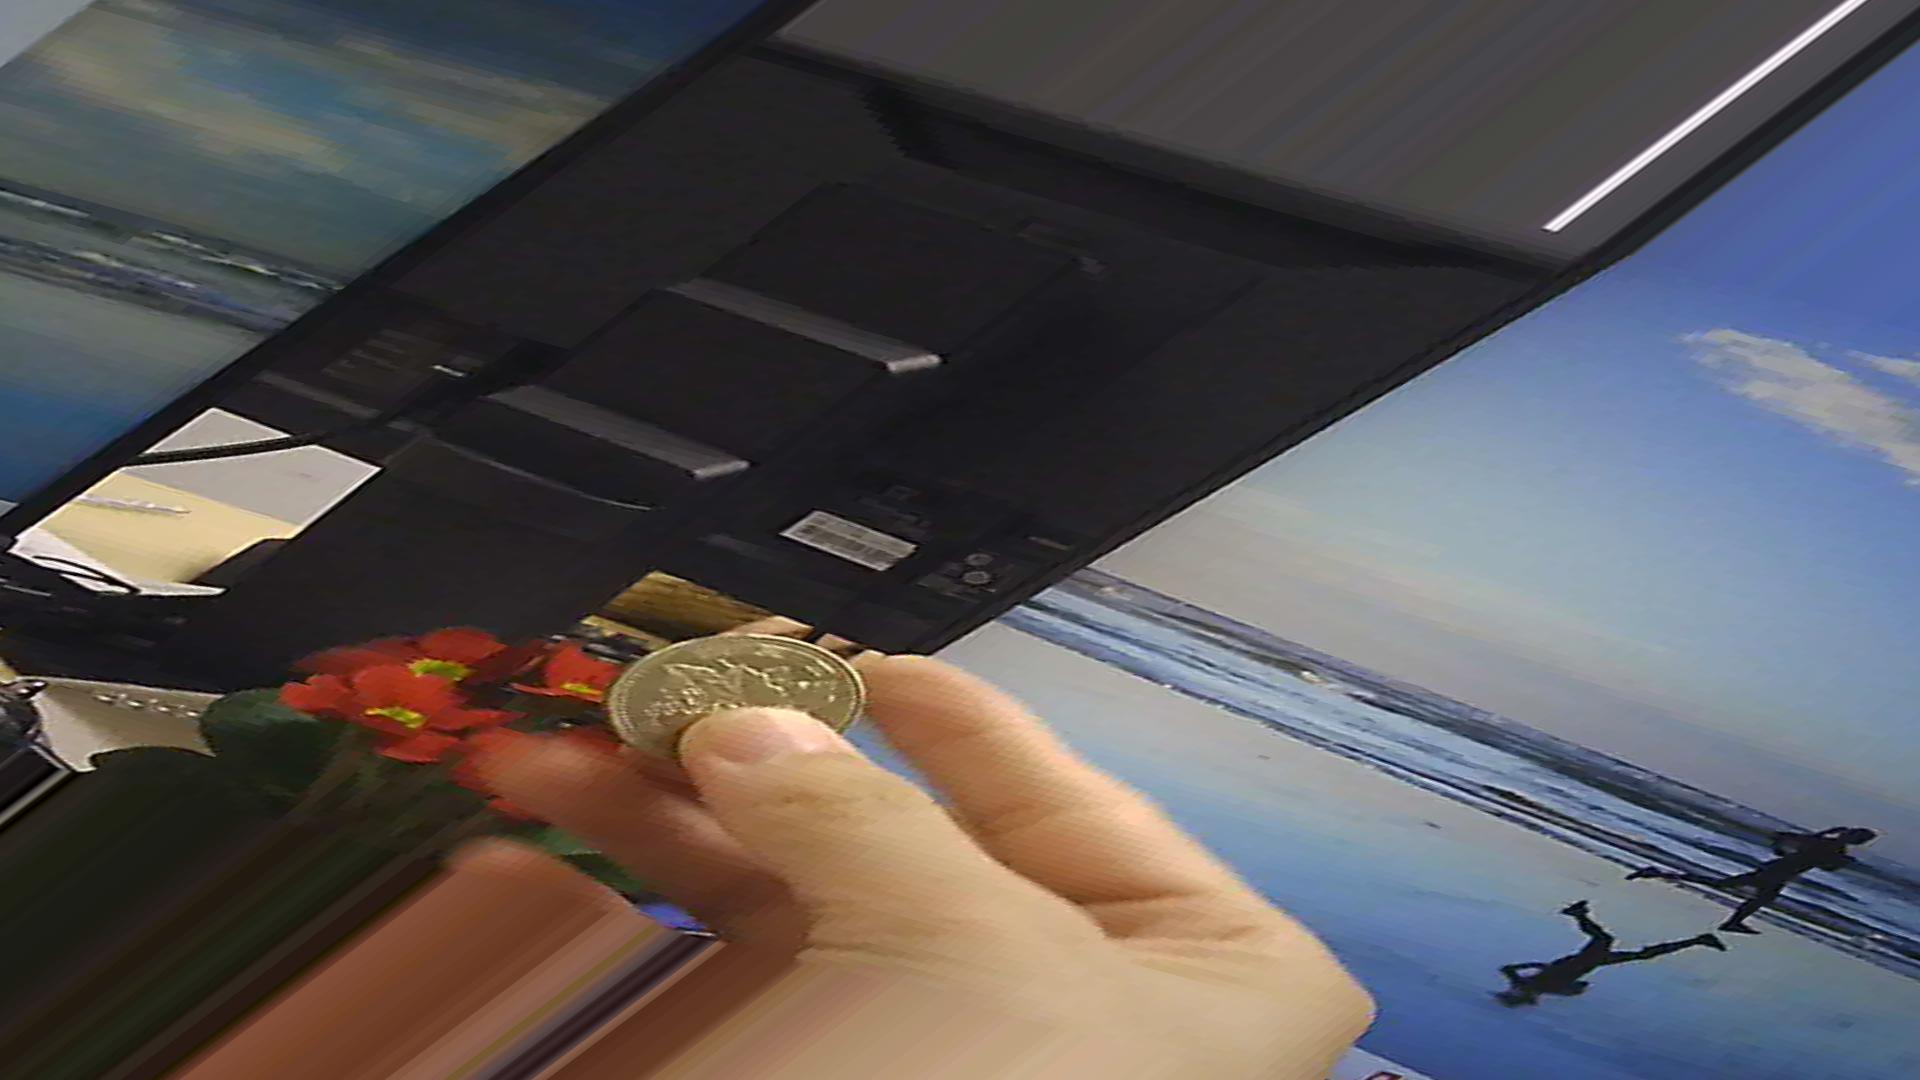500 Yen: (588, 624, 862, 766)
